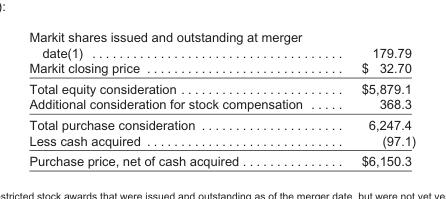table: (28, 29, 415, 167)
table column: (28, 29, 331, 167), (331, 29, 415, 167)
table row: (28, 29, 415, 59), (28, 77, 415, 96), (28, 59, 415, 77), (28, 96, 415, 114), (28, 114, 415, 132), (28, 132, 415, 150), (28, 150, 415, 167)
